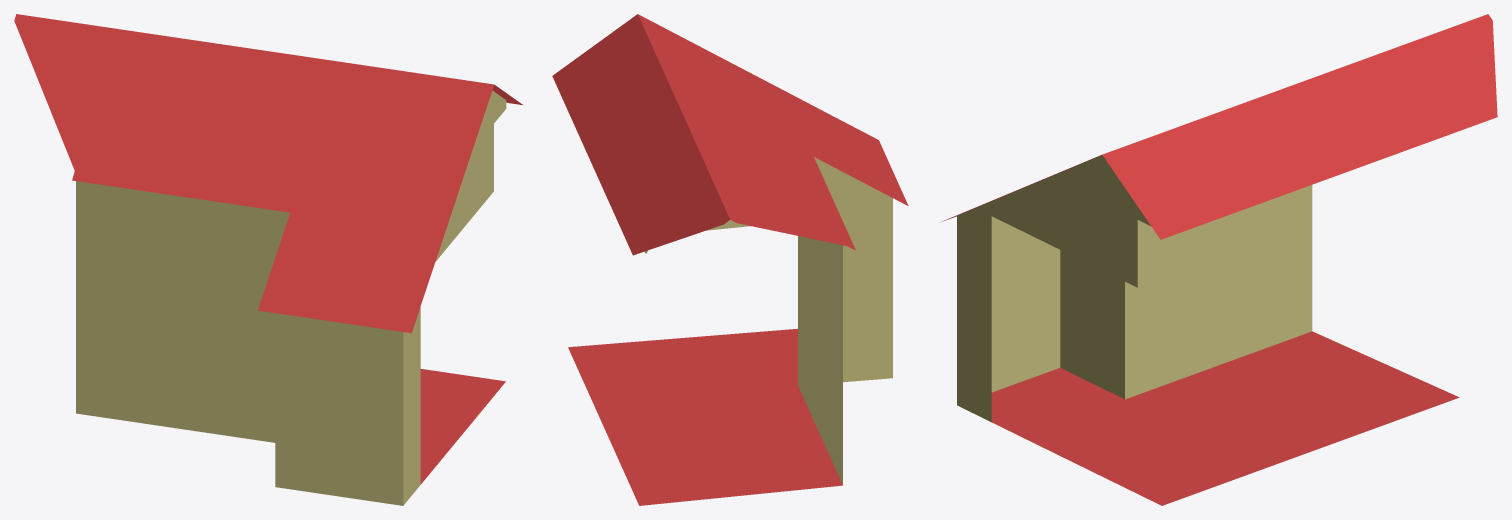
3 renders of one model, left to right at view 1: azimuth 30°, elevation 25°; view 2: azimuth 150°, elevation 25°; view 3: azimuth 270°, elevation 25°, orthographic. The views are drawn at different scales.
Bounding box in the file's own units: 16.02 × 20.26 × 13.21.
